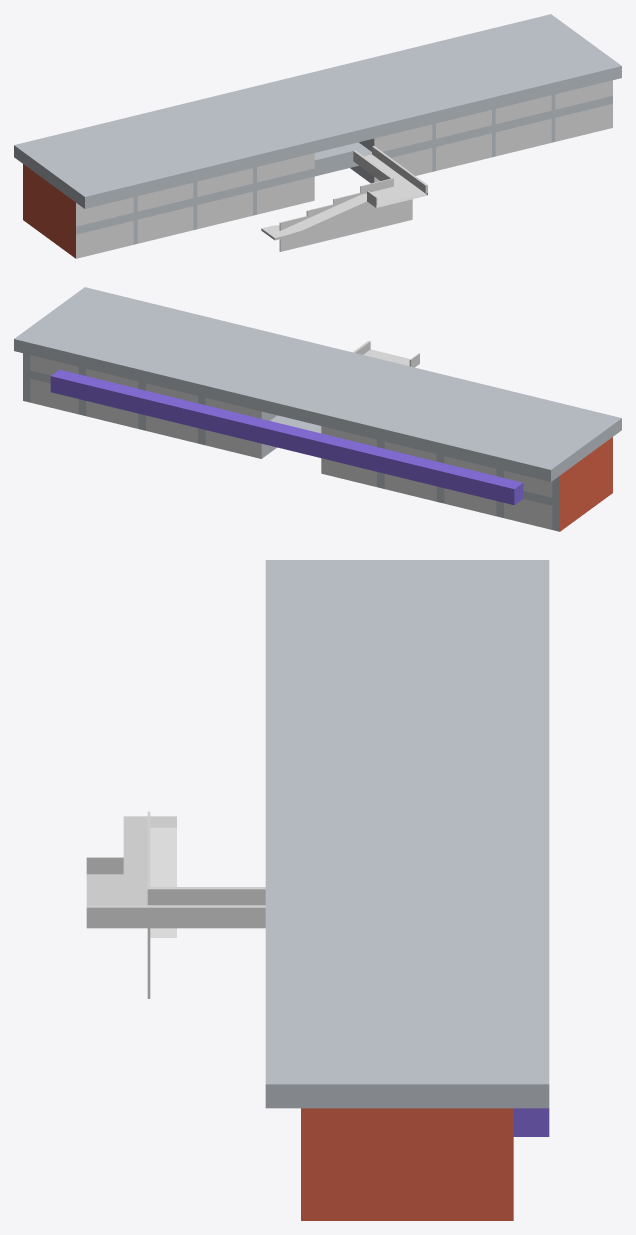
The model's file is salas_eixo1.glb.
The picture shows the model from 3 angles, top to bottom: view 1: azimuth 30°, elevation 25°; view 2: azimuth 150°, elevation 25°; view 3: azimuth 270°, elevation 25°; orthographic projection. The views are drawn at different scales.
Parts seen in each view (by area): view 1: Salas - Eixo 1; view 2: Salas - Eixo 1; view 3: Salas - Eixo 1.
Boxes of the visible parts, x1,y1,x2,y2 form: Salas - Eixo 1: (14,14,621,258); Salas - Eixo 1: (14,287,621,531); Salas - Eixo 1: (86,560,549,1220).
Size of the model in its own units: 69.91 by 9.2 by 26.07.
